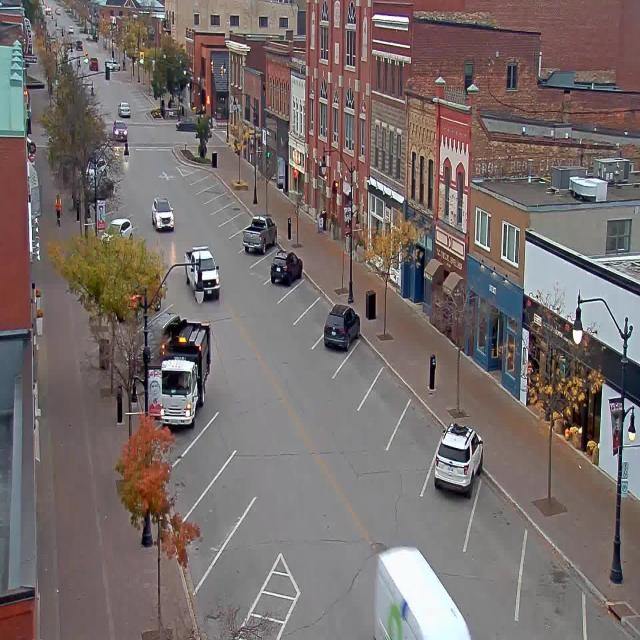available: (518, 526, 598, 634), (468, 456, 536, 564), (211, 512, 282, 600), (205, 449, 268, 533), (181, 404, 244, 481), (401, 382, 449, 454), (584, 596, 640, 640), (379, 360, 421, 418), (351, 329, 390, 384), (307, 284, 338, 324), (294, 268, 319, 304), (263, 226, 286, 258), (234, 204, 252, 229), (226, 196, 244, 217), (211, 177, 227, 198), (192, 161, 208, 181), (219, 188, 234, 207), (204, 170, 220, 187)
occupied: (434, 421, 484, 497), (160, 358, 199, 428), (323, 303, 360, 351), (144, 310, 185, 350), (242, 214, 277, 254), (270, 249, 302, 286)
